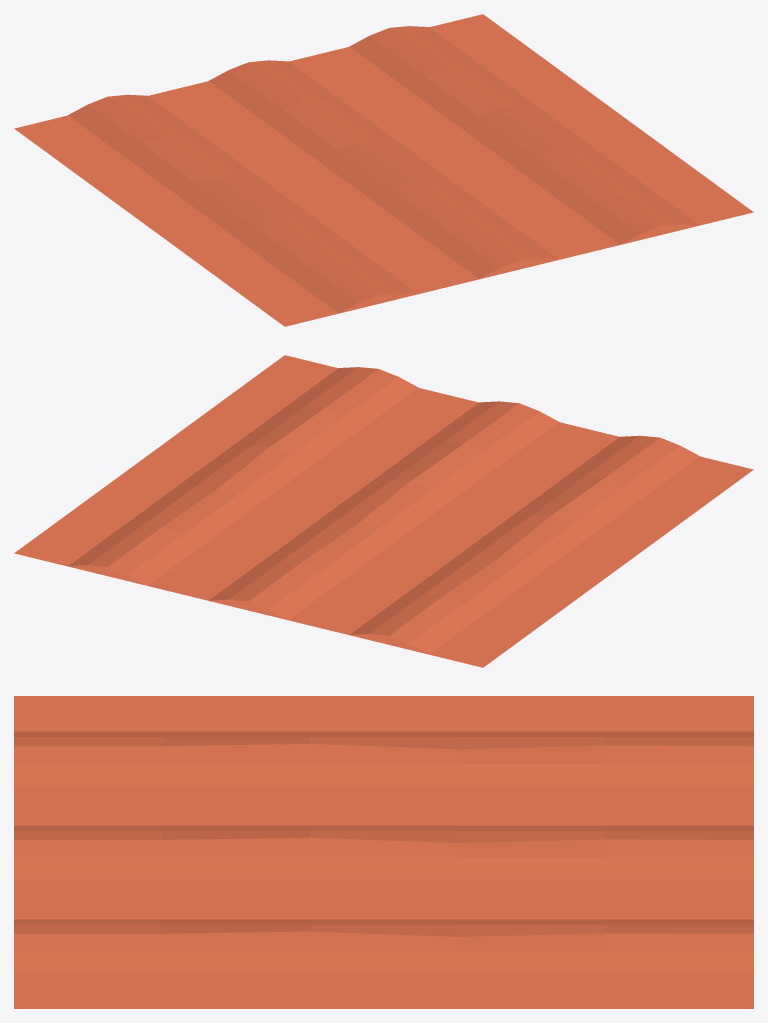
File: Wet Soil Tile.fbx
3 views of the same model, one above another, from view 1: azimuth 30°, elevation 25°; view 2: azimuth 150°, elevation 25°; view 3: azimuth 270°, elevation 25° (orthographic). The views are drawn at different scales.
Parts seen in each view (by area): view 1: dirt wet; view 2: dirt wet; view 3: dirt wet.
Part boxes in pixels (x1,y1,x2,y2): dirt wet: [14, 14, 753, 326]; dirt wet: [14, 355, 753, 667]; dirt wet: [14, 696, 753, 1008].
Size of the model in its own units: 200 by 4.4 by 200.
